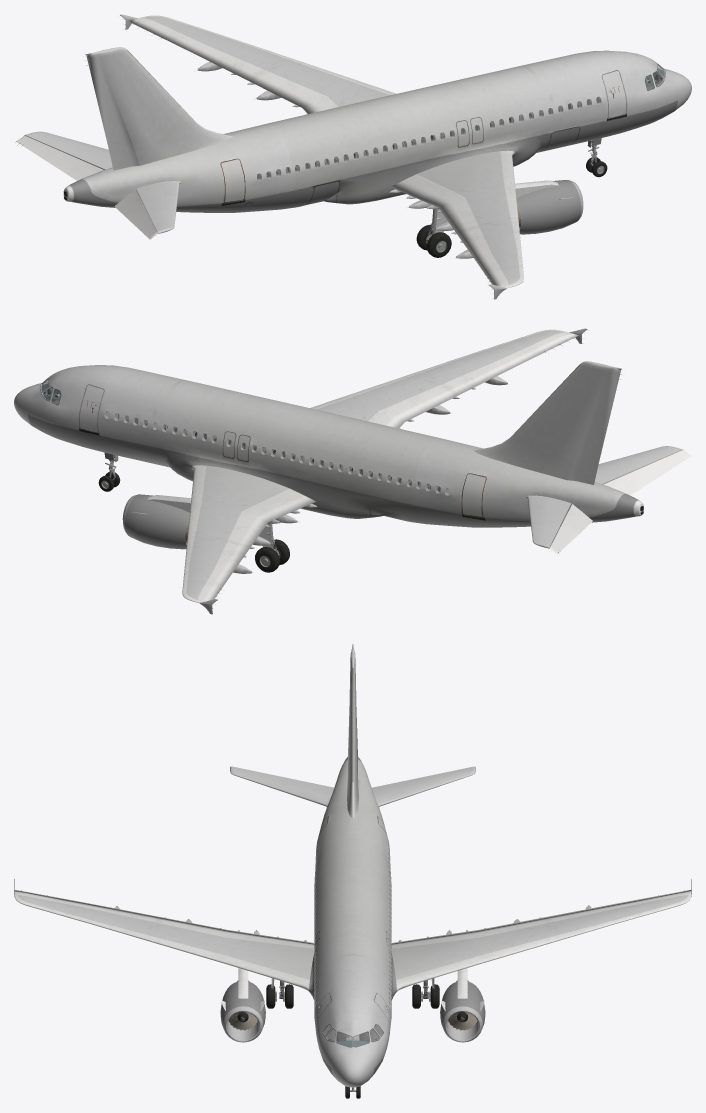
3 renders of one model, top to bottom at view 1: azimuth 30°, elevation 25°; view 2: azimuth 150°, elevation 25°; view 3: azimuth 270°, elevation 25°, orthographic. The views are drawn at different scales.
Visible parts, largest first — view 1: A319_jiti, A319_Jicang, A319_boli, luntai2; view 2: A319_jiti, A319_Jicang, A319_boli, luntai1; view 3: A319_jiti, A319_Jicang, A319_boli.
Part boxes in pixels (x1,y1,x2,y2): A319_jiti: (15,14,691,299); A319_Jicang: (221,64,665,202); A319_boli: (257,65,664,180); luntai2: (416,224,451,257); A319_jiti: (14,328,691,614); A319_Jicang: (40,378,486,517); A319_boli: (41,379,449,495); luntai1: (255,539,289,572); A319_jiti: (14,644,691,1087); A319_Jicang: (314,817,391,1046); A319_boli: (315,853,390,1046).
Size of the model in its own units: 33.29 by 12.52 by 34.
6 materials, 5 textured.
